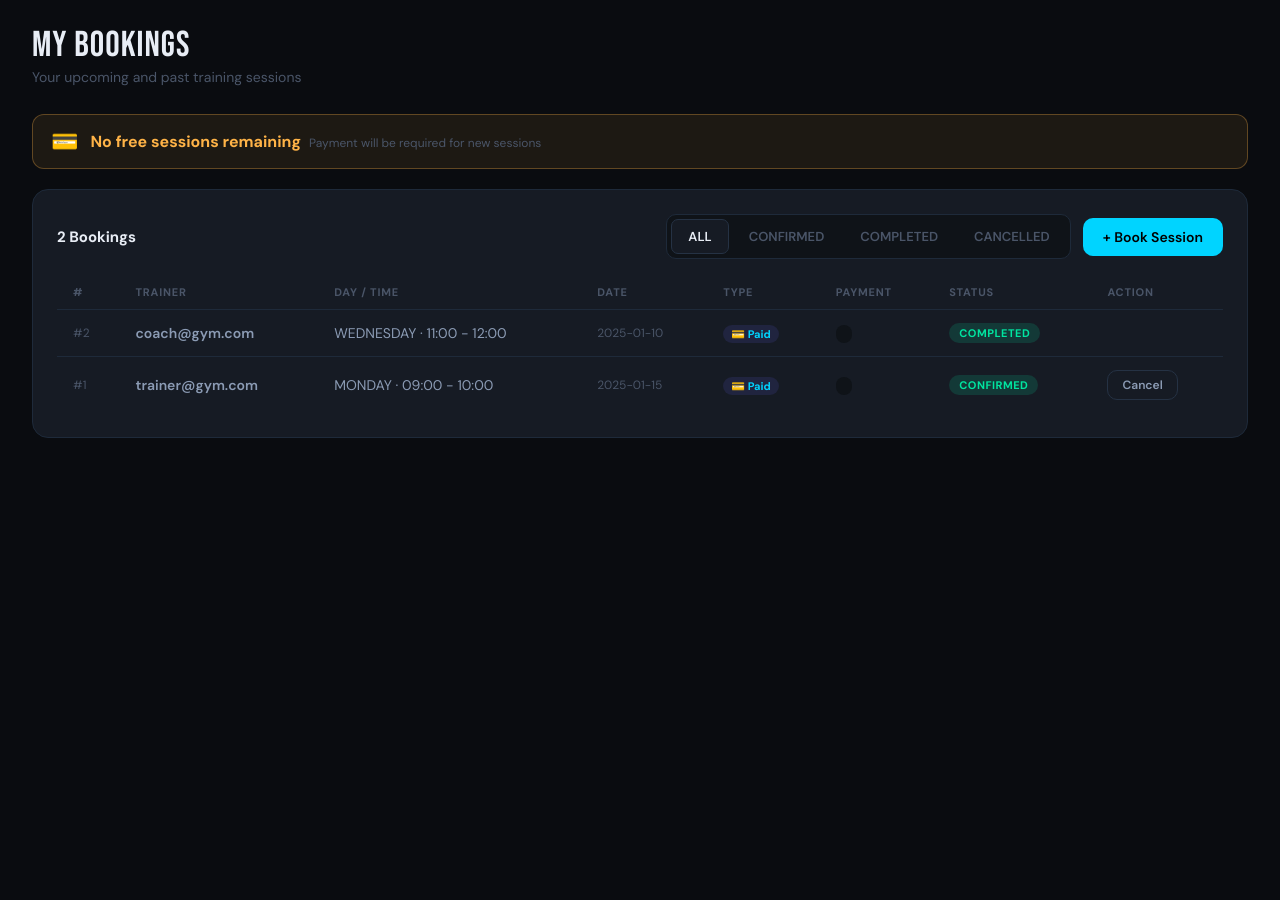
MemberBookings — payment method dropdown › shows Payment Method dropdown with 5 options
The image size is (1280, 900).
Click the button "+ Book Session" at (1153, 236), box [1083,218,1223,256]
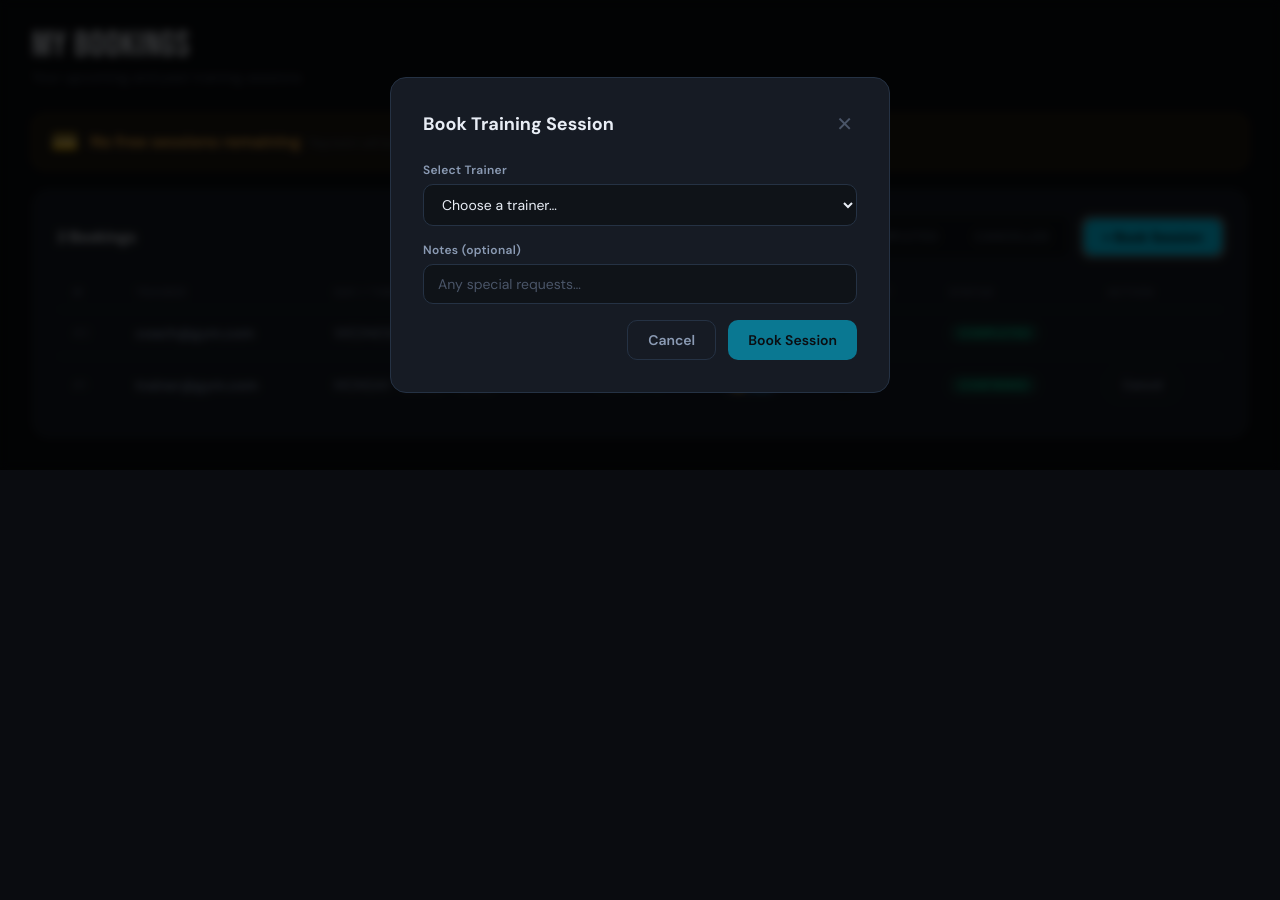
Check: the text "Book Training Session" is shown, box [423,112,614,136]
Select "John Trainer — Yoga — fee not set" in the dropdown at (640, 205), box [423,184,857,226]
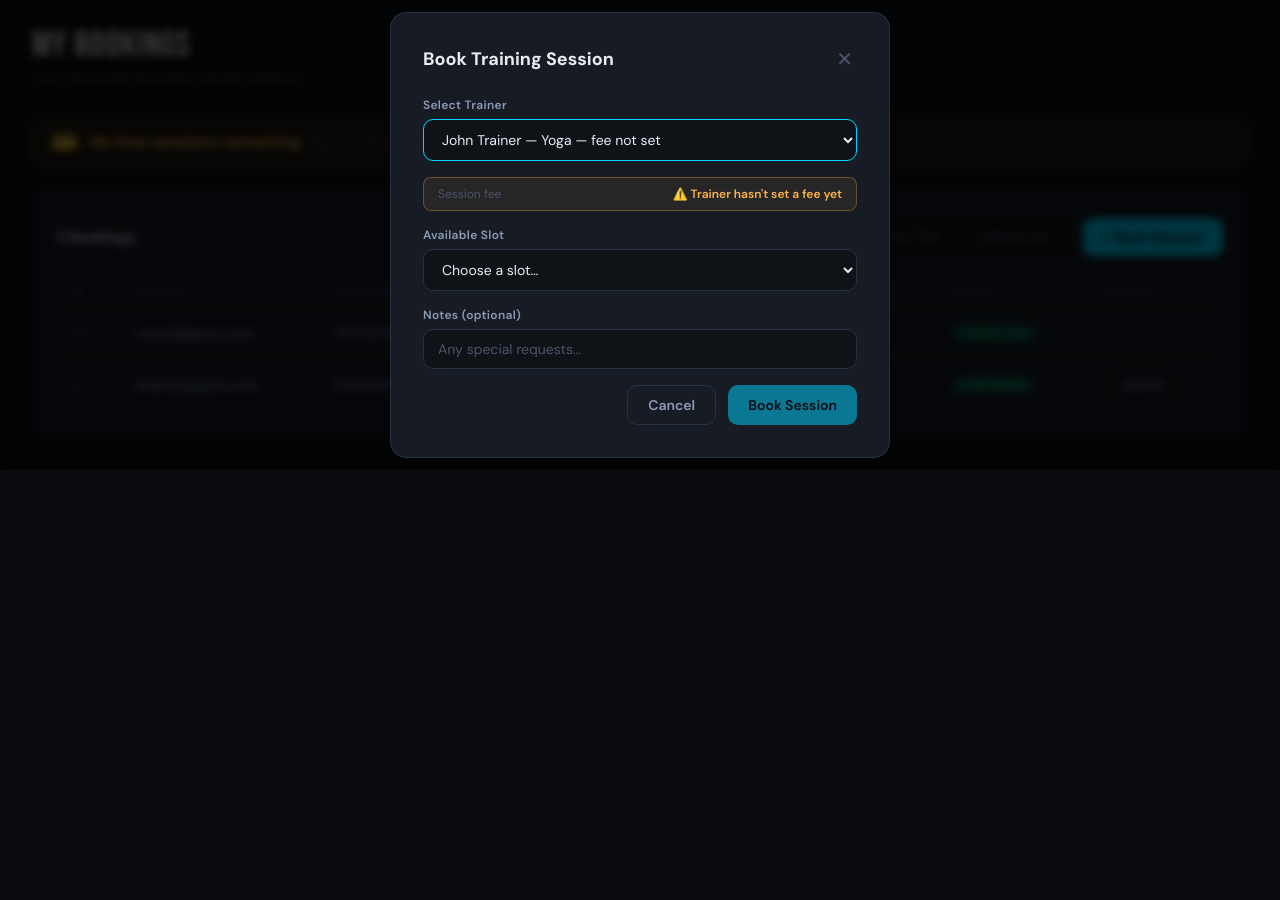
Check: the text "Available Slot" is shown, box [423,227,504,243]
Select "MONDAY: 09:00 – 10:00" in the dropdown below "Available Slot" at (640, 270), box [423,249,857,291]
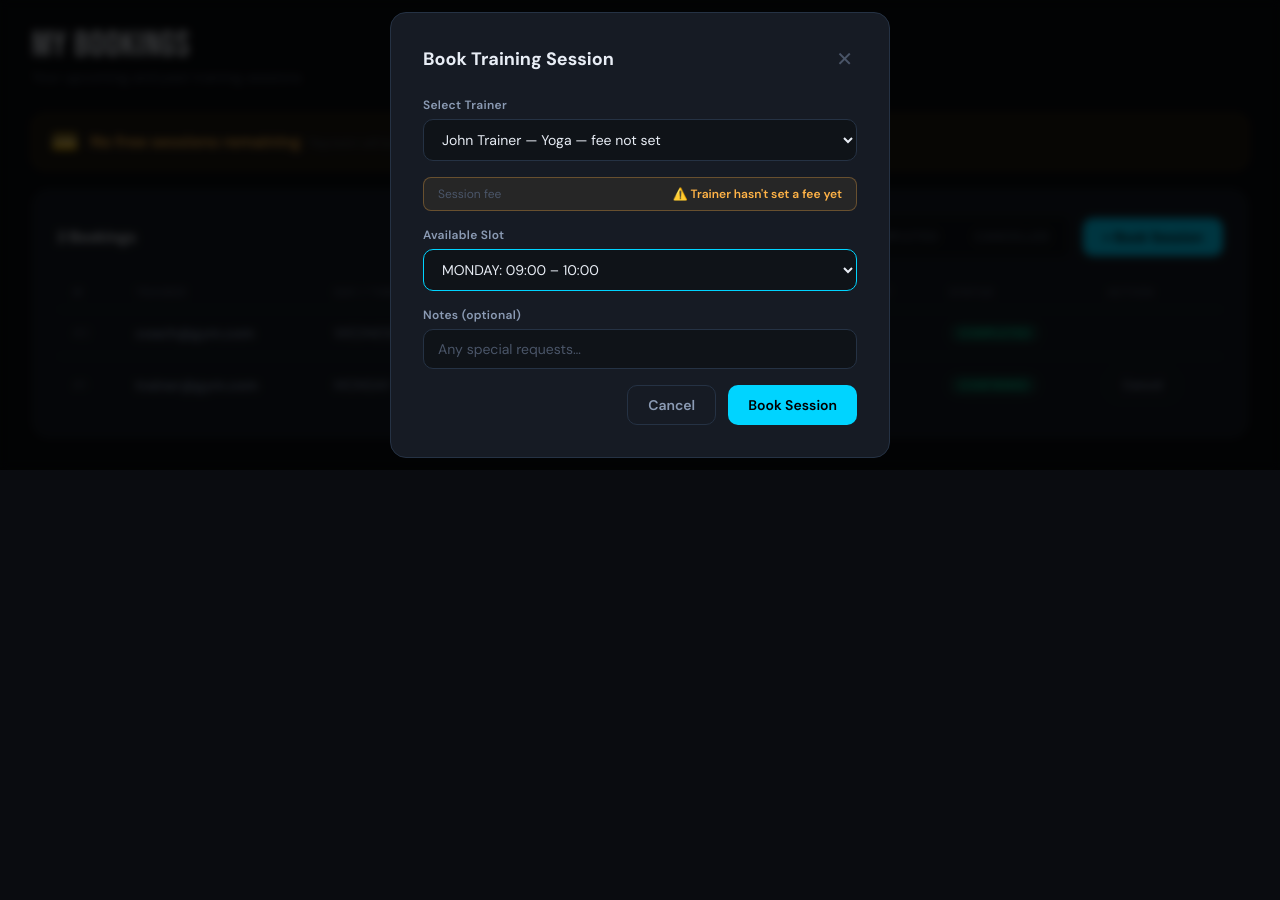
Click the button "Book Session" at (793, 405), box [728,385,857,425]
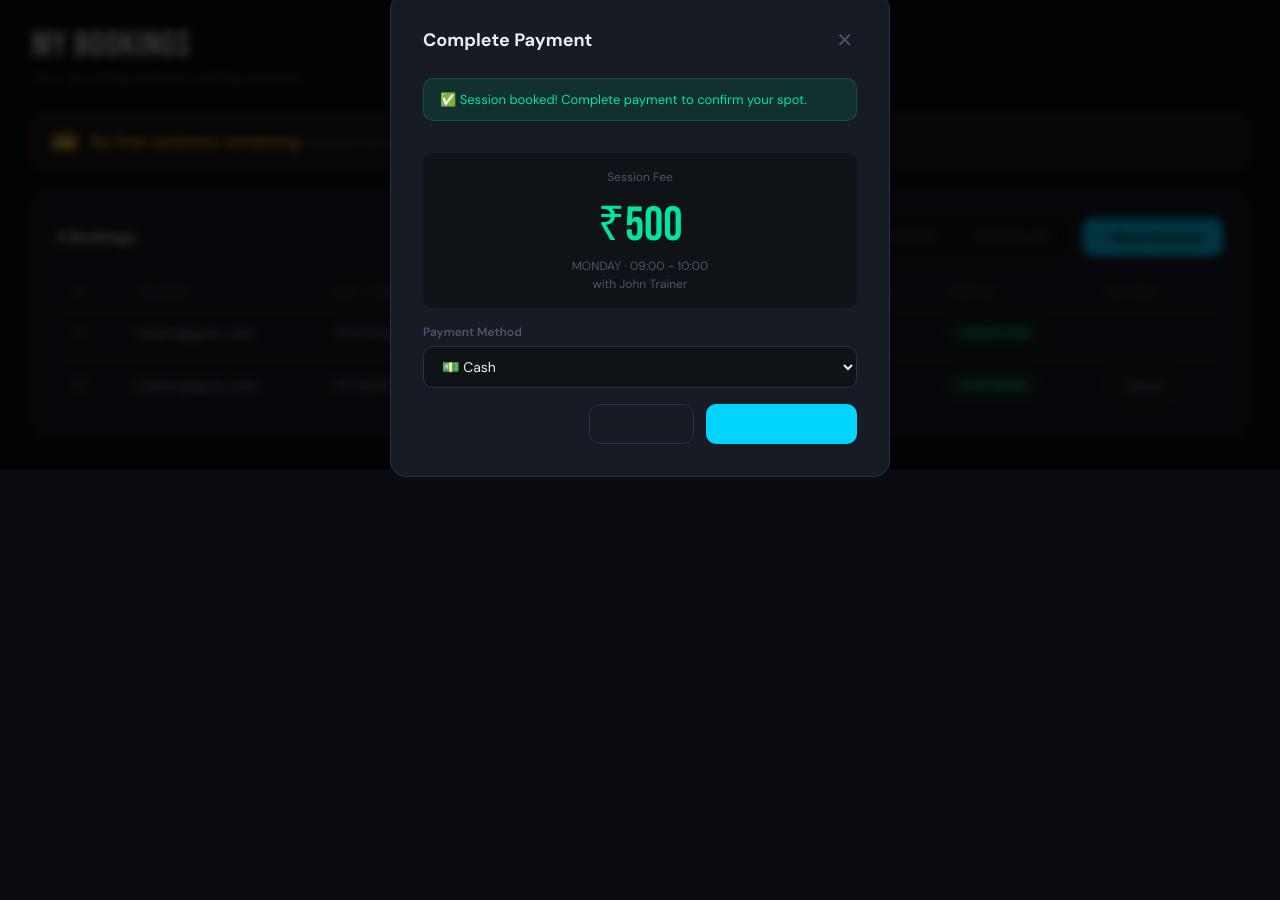
Check: the text "Payment Method" is shown, box [423,324,522,340]
